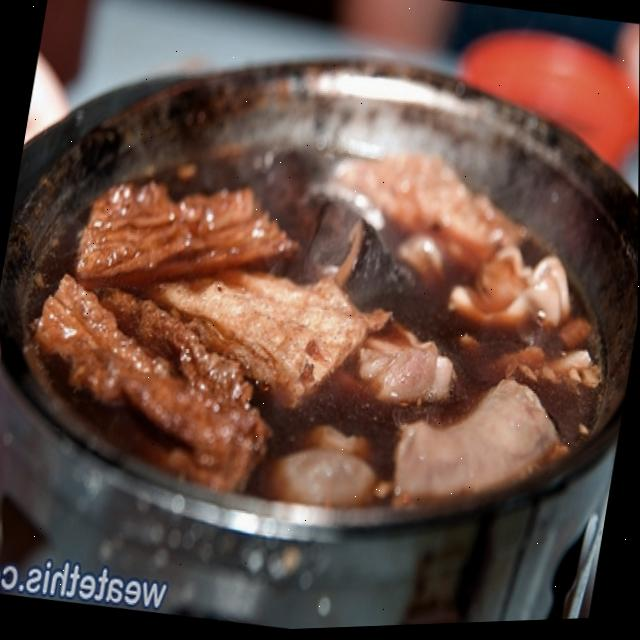汤锅炖物: (0, 3, 640, 618)
